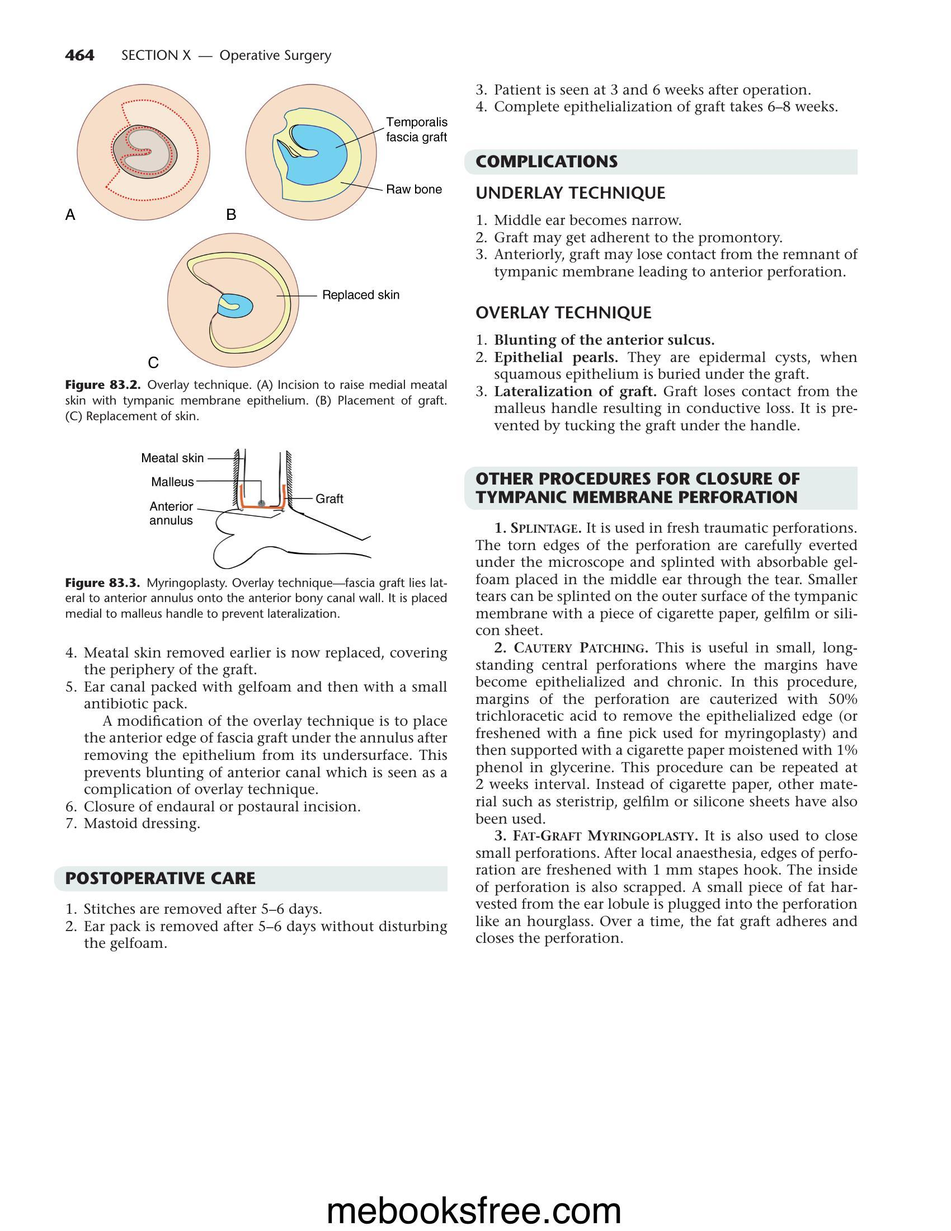caption: (64, 378, 448, 425), (65, 577, 448, 623), (147, 355, 160, 370), (225, 207, 238, 221), (64, 208, 77, 221)
header: (121, 48, 332, 65)
image: (140, 226, 404, 376), (135, 433, 383, 574), (221, 76, 457, 223), (59, 77, 215, 224)
list: (474, 520, 859, 949), (63, 645, 448, 833), (474, 332, 859, 435), (474, 213, 858, 281), (64, 901, 448, 952), (474, 82, 838, 117)
section-heading: (473, 469, 802, 505), (64, 871, 257, 885), (475, 153, 619, 169)
sub-section-heading: (474, 184, 667, 203), (476, 305, 653, 322)
